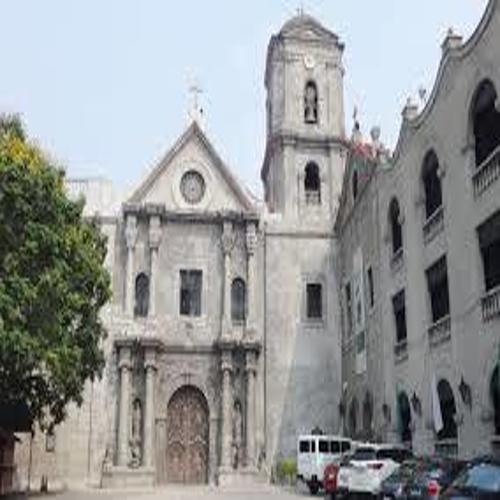San Agustin Church: (113, 1, 356, 482)
